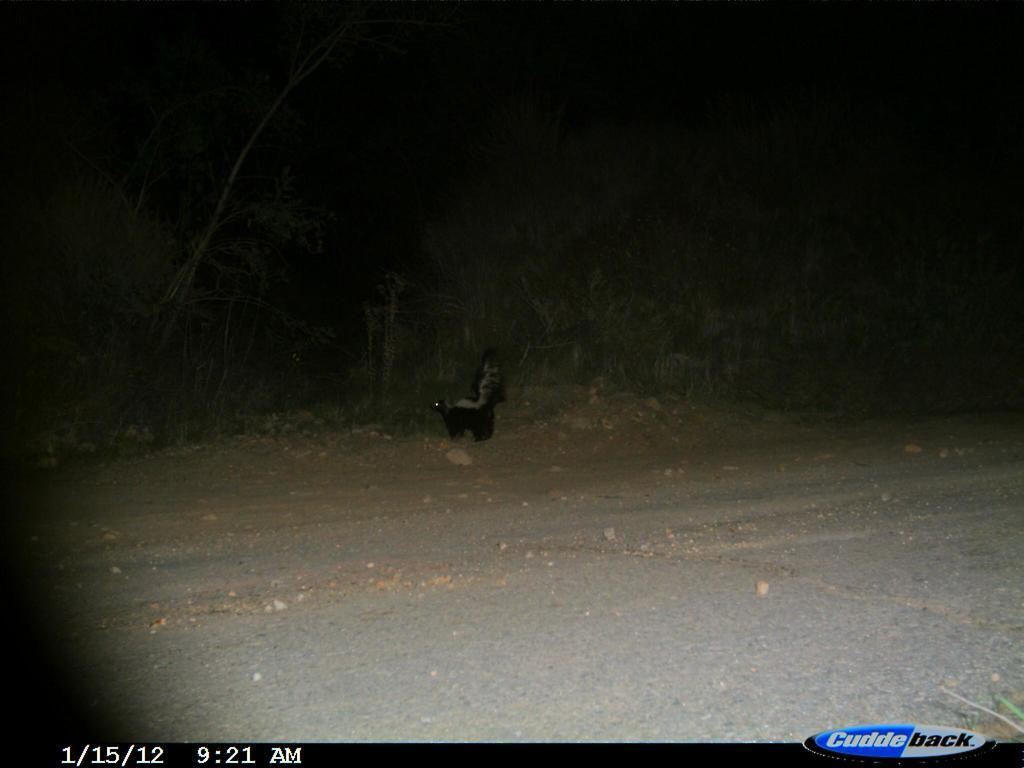skunk: (424, 337, 521, 452)
